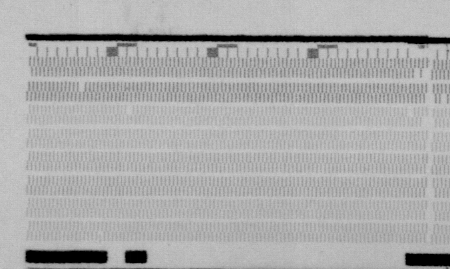Broken hole: (411, 68, 431, 81), (440, 92, 450, 106), (419, 115, 429, 129), (76, 81, 87, 93), (124, 103, 135, 115), (405, 108, 415, 118)
Oblique printing: (95, 231, 106, 245)
